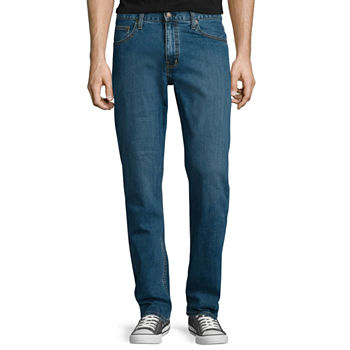Jeans: (111, 11, 233, 316)
